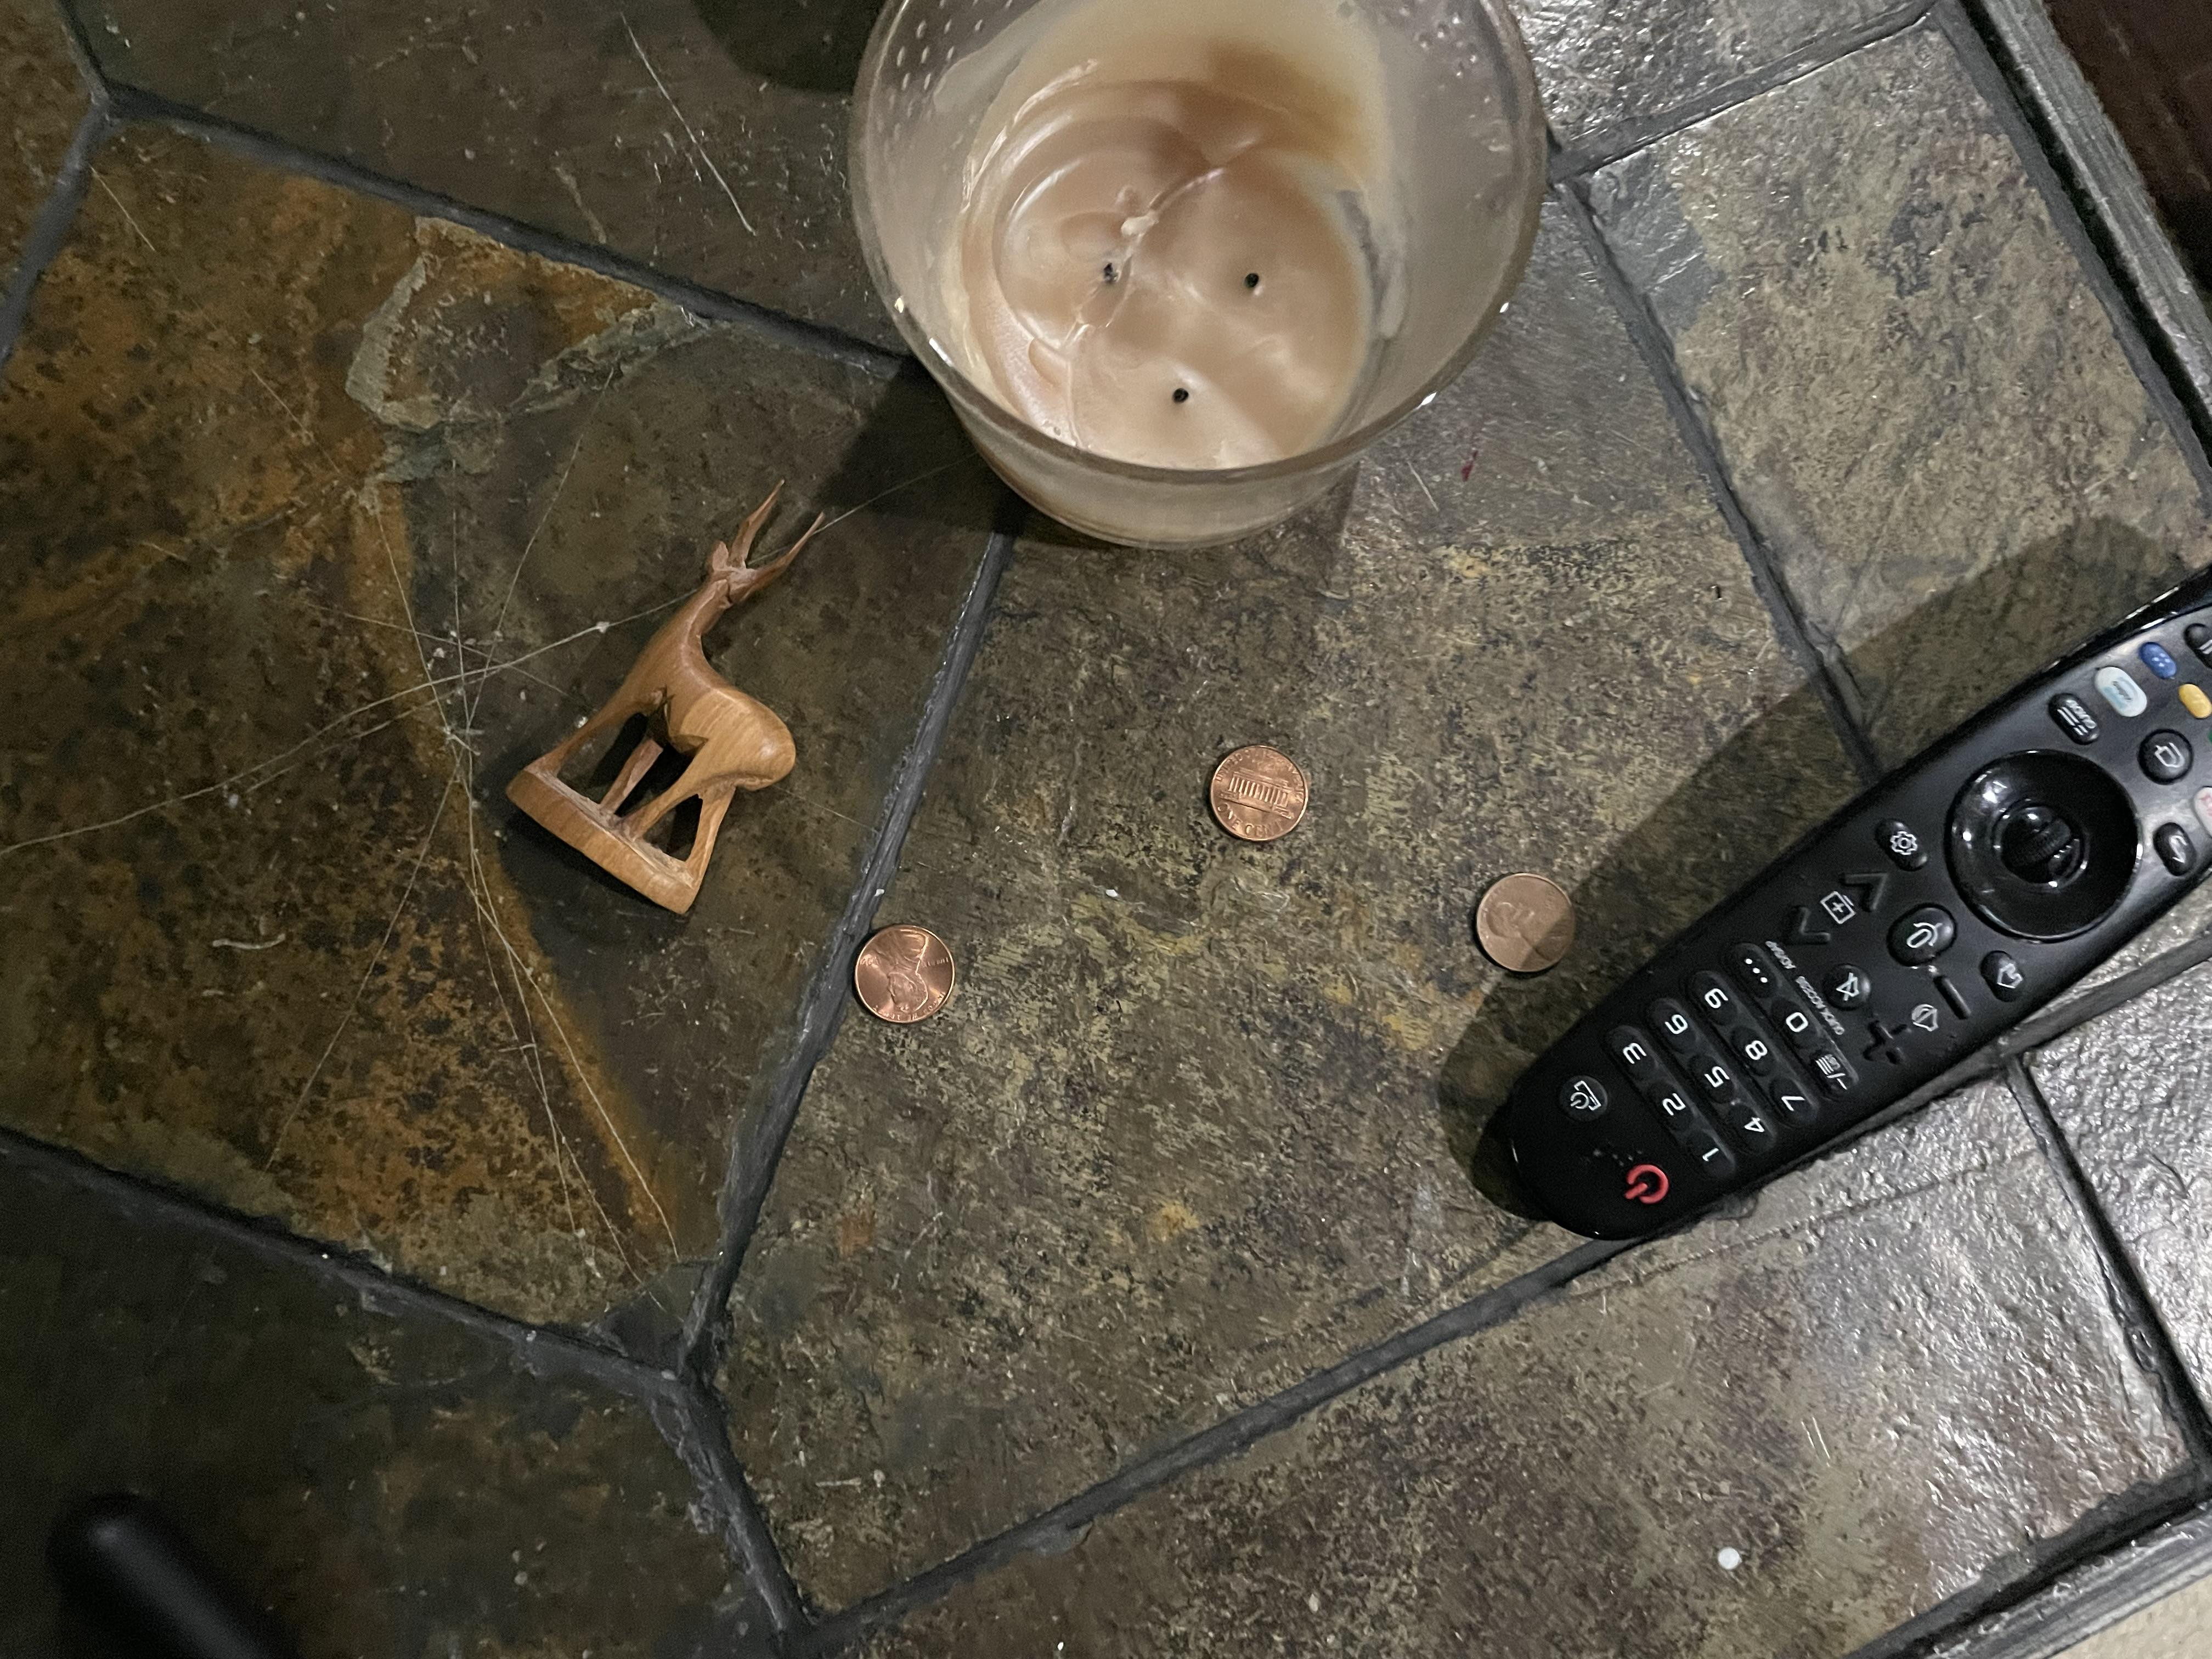Penny: (1456, 864, 1602, 983), (843, 918, 975, 1030), (1207, 735, 1325, 852)
